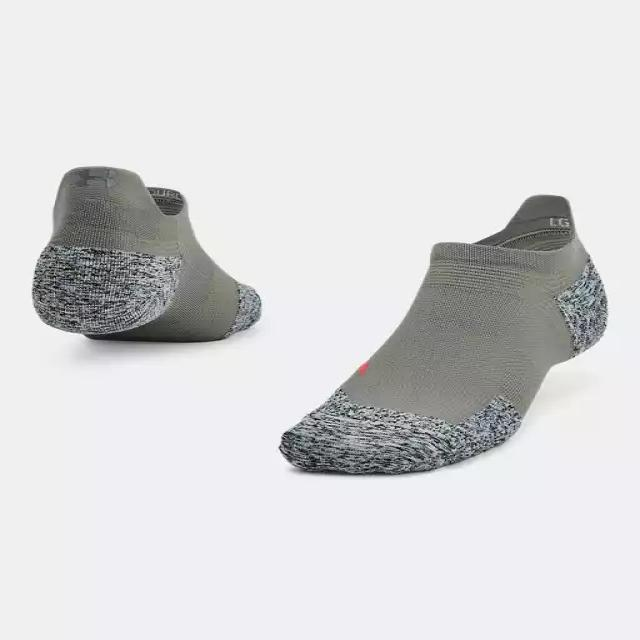sock: (277, 193, 608, 475), (30, 164, 261, 342)
